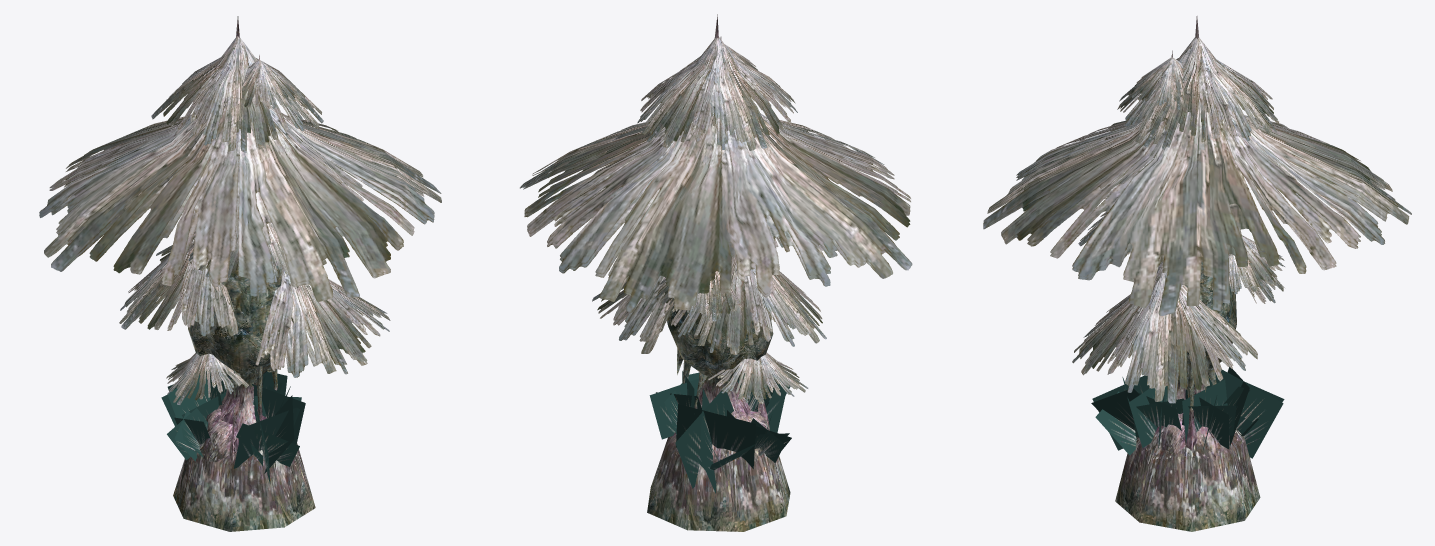
File: rock_crystl_tree_sm_l1.fbx
3 renders of one model, left to right at view 1: azimuth 30°, elevation 25°; view 2: azimuth 150°, elevation 25°; view 3: azimuth 270°, elevation 25°, orthographic.
Parts seen in each view (by area): view 1: mesh_node; view 2: mesh_node; view 3: mesh_node.
Part boxes in pixels (x1,y1,x2,y2): mesh_node: (39,16,441,531); mesh_node: (520,14,912,531); mesh_node: (983,16,1411,531).
Bounding box in the file's own units: 16.05 × 19.16 × 16.05.
